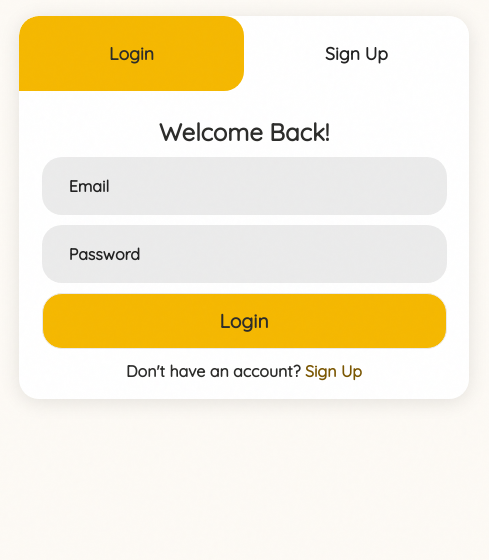
Test: User interaction › shows the registration fields after clicking Sign Up
The width and height of the screenshot is (489, 560).
Click the button "Sign Up". click: point(356, 53)
box: [244,16,469,91]
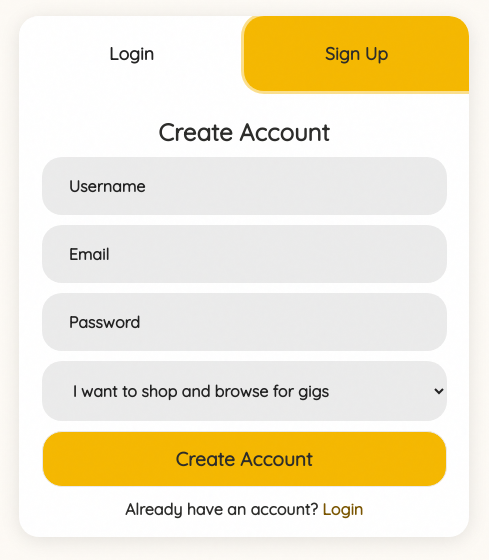
Expected: the field with placeholder "Username" is shown, [42,157,446,215]
Expected: the dropdown is shown, [42,361,446,421]
Expected: the heading "Create Account" is shown, [158,117,330,147]
